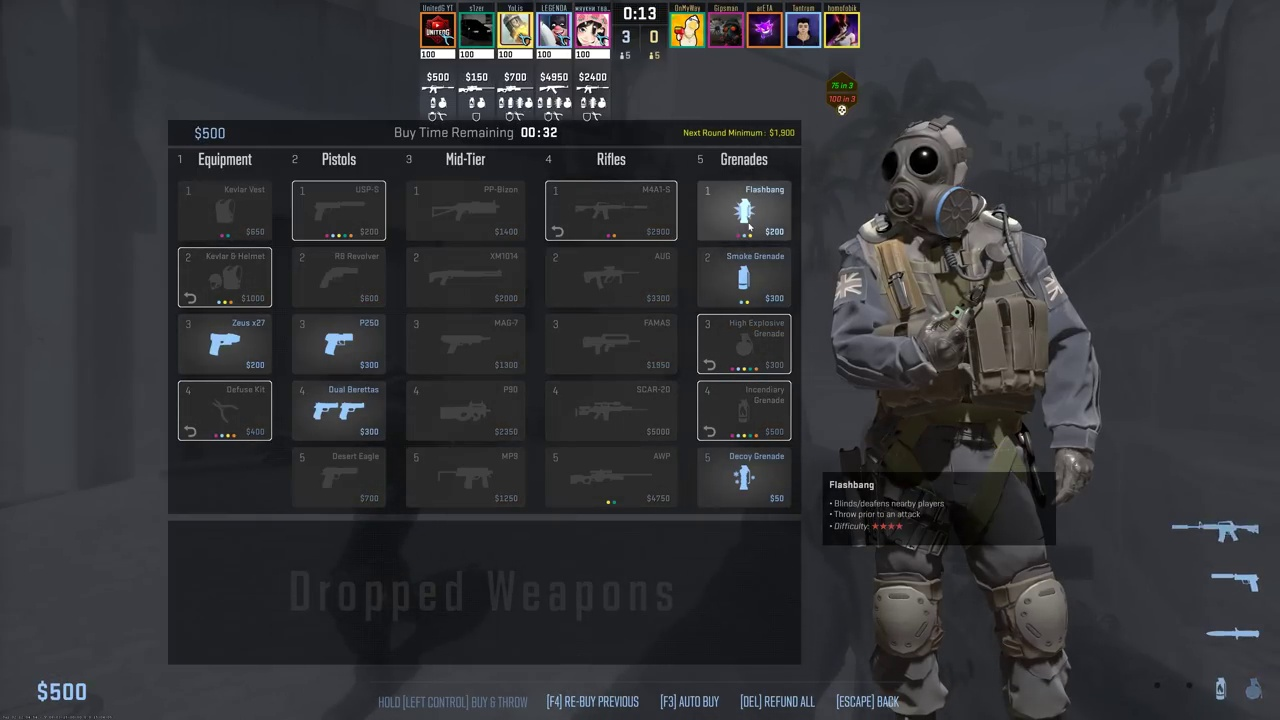CT: (855, 121, 1075, 707)
